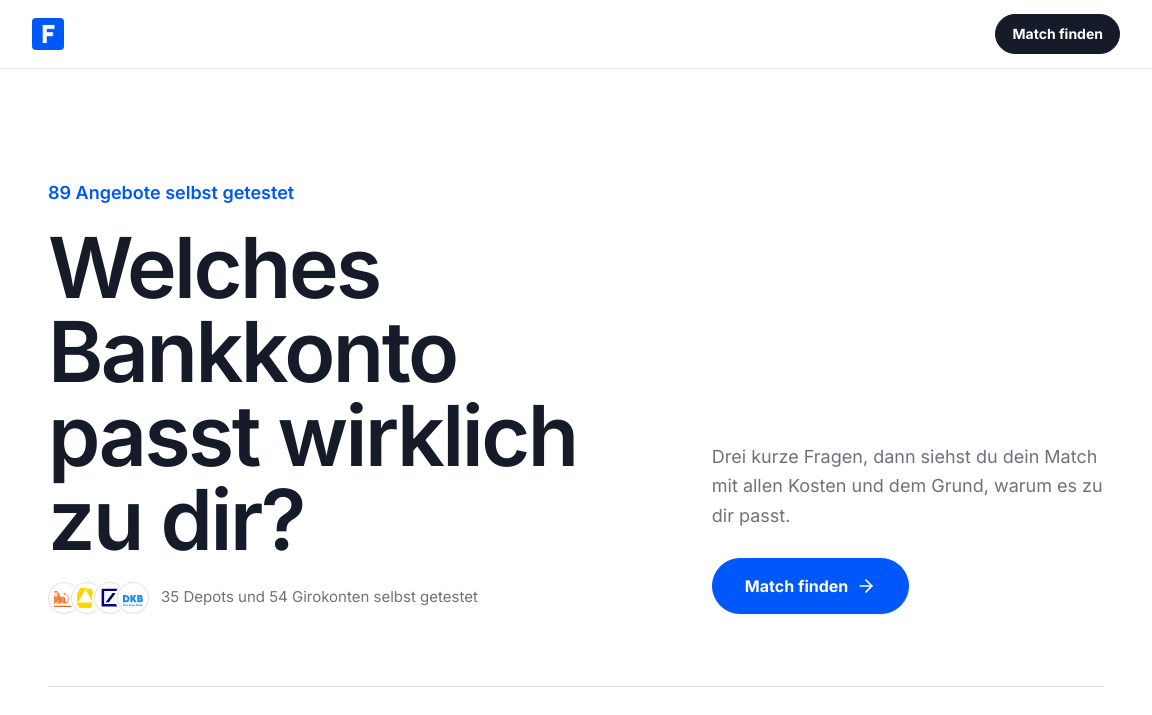
Test: Verkaufsseite › oben nur ein Knopf „Match finden“ (RN16, Elias RN15-03: Unterschied zu „Erst Bankkonten vergleichen“ unklar), er startet den Check, kein Link aus dem Ablauf
Click the button "Match finden" in the row of "Girokonten selbst getestet": (811, 586) [712,558,909,614]
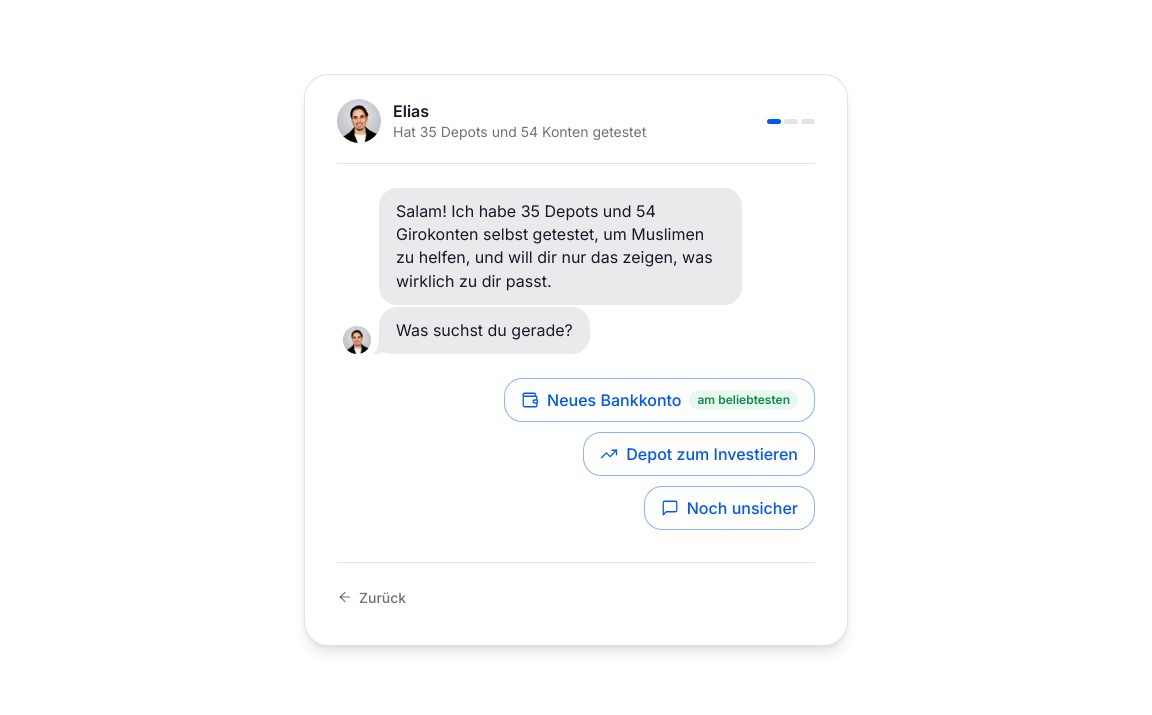
Expected: the heading reads "Was suchst du gerade?", [396,320,573,340]
